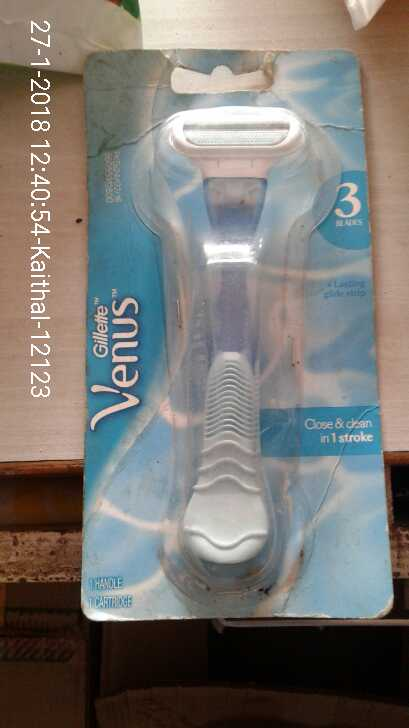venus: (85, 52, 394, 624)
